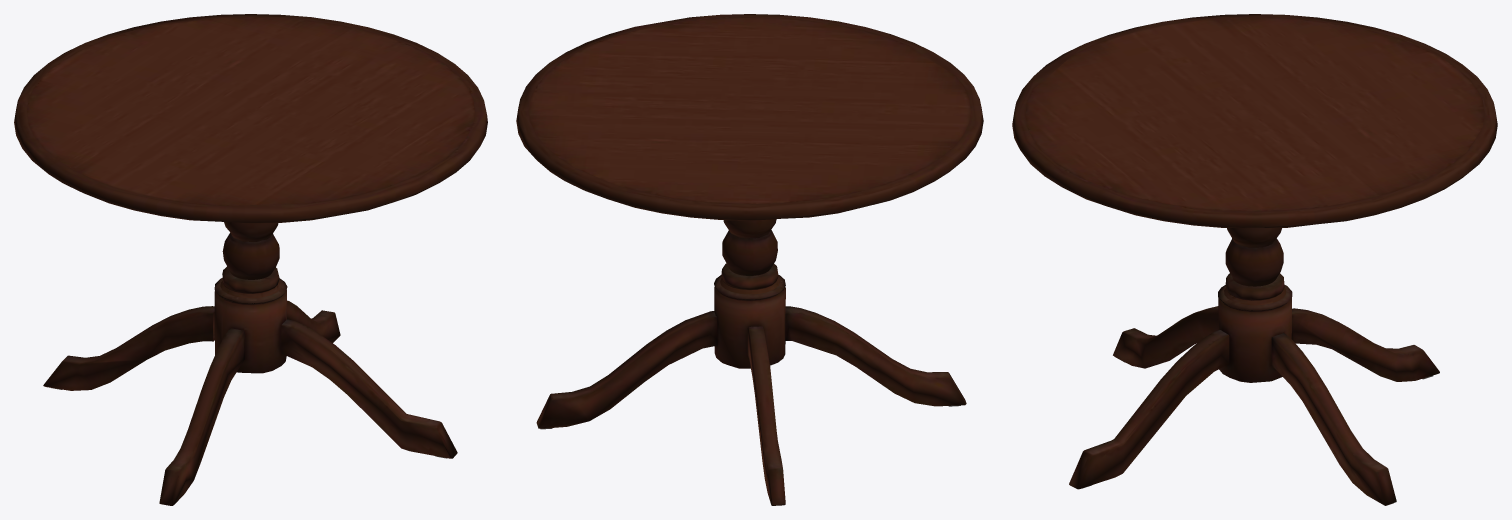
File: round_table.glb
3 views of the same model, side by side, from view 1: azimuth 30°, elevation 25°; view 2: azimuth 150°, elevation 25°; view 3: azimuth 270°, elevation 25° (orthographic). The views are drawn at different scales.
Parts seen in each view (by area): view 1: round_wooden_table_01; view 2: round_wooden_table_01; view 3: round_wooden_table_01.
Boxes of the visible parts, x1=… form: round_wooden_table_01: x1=14, y1=14, x2=487, y2=505; round_wooden_table_01: x1=516, y1=14, x2=983, y2=505; round_wooden_table_01: x1=1012, y1=14, x2=1497, y2=505.
Size of the model in its own units: 1.4 by 1 by 1.4.
Materials: 1 (1 with a texture image).
